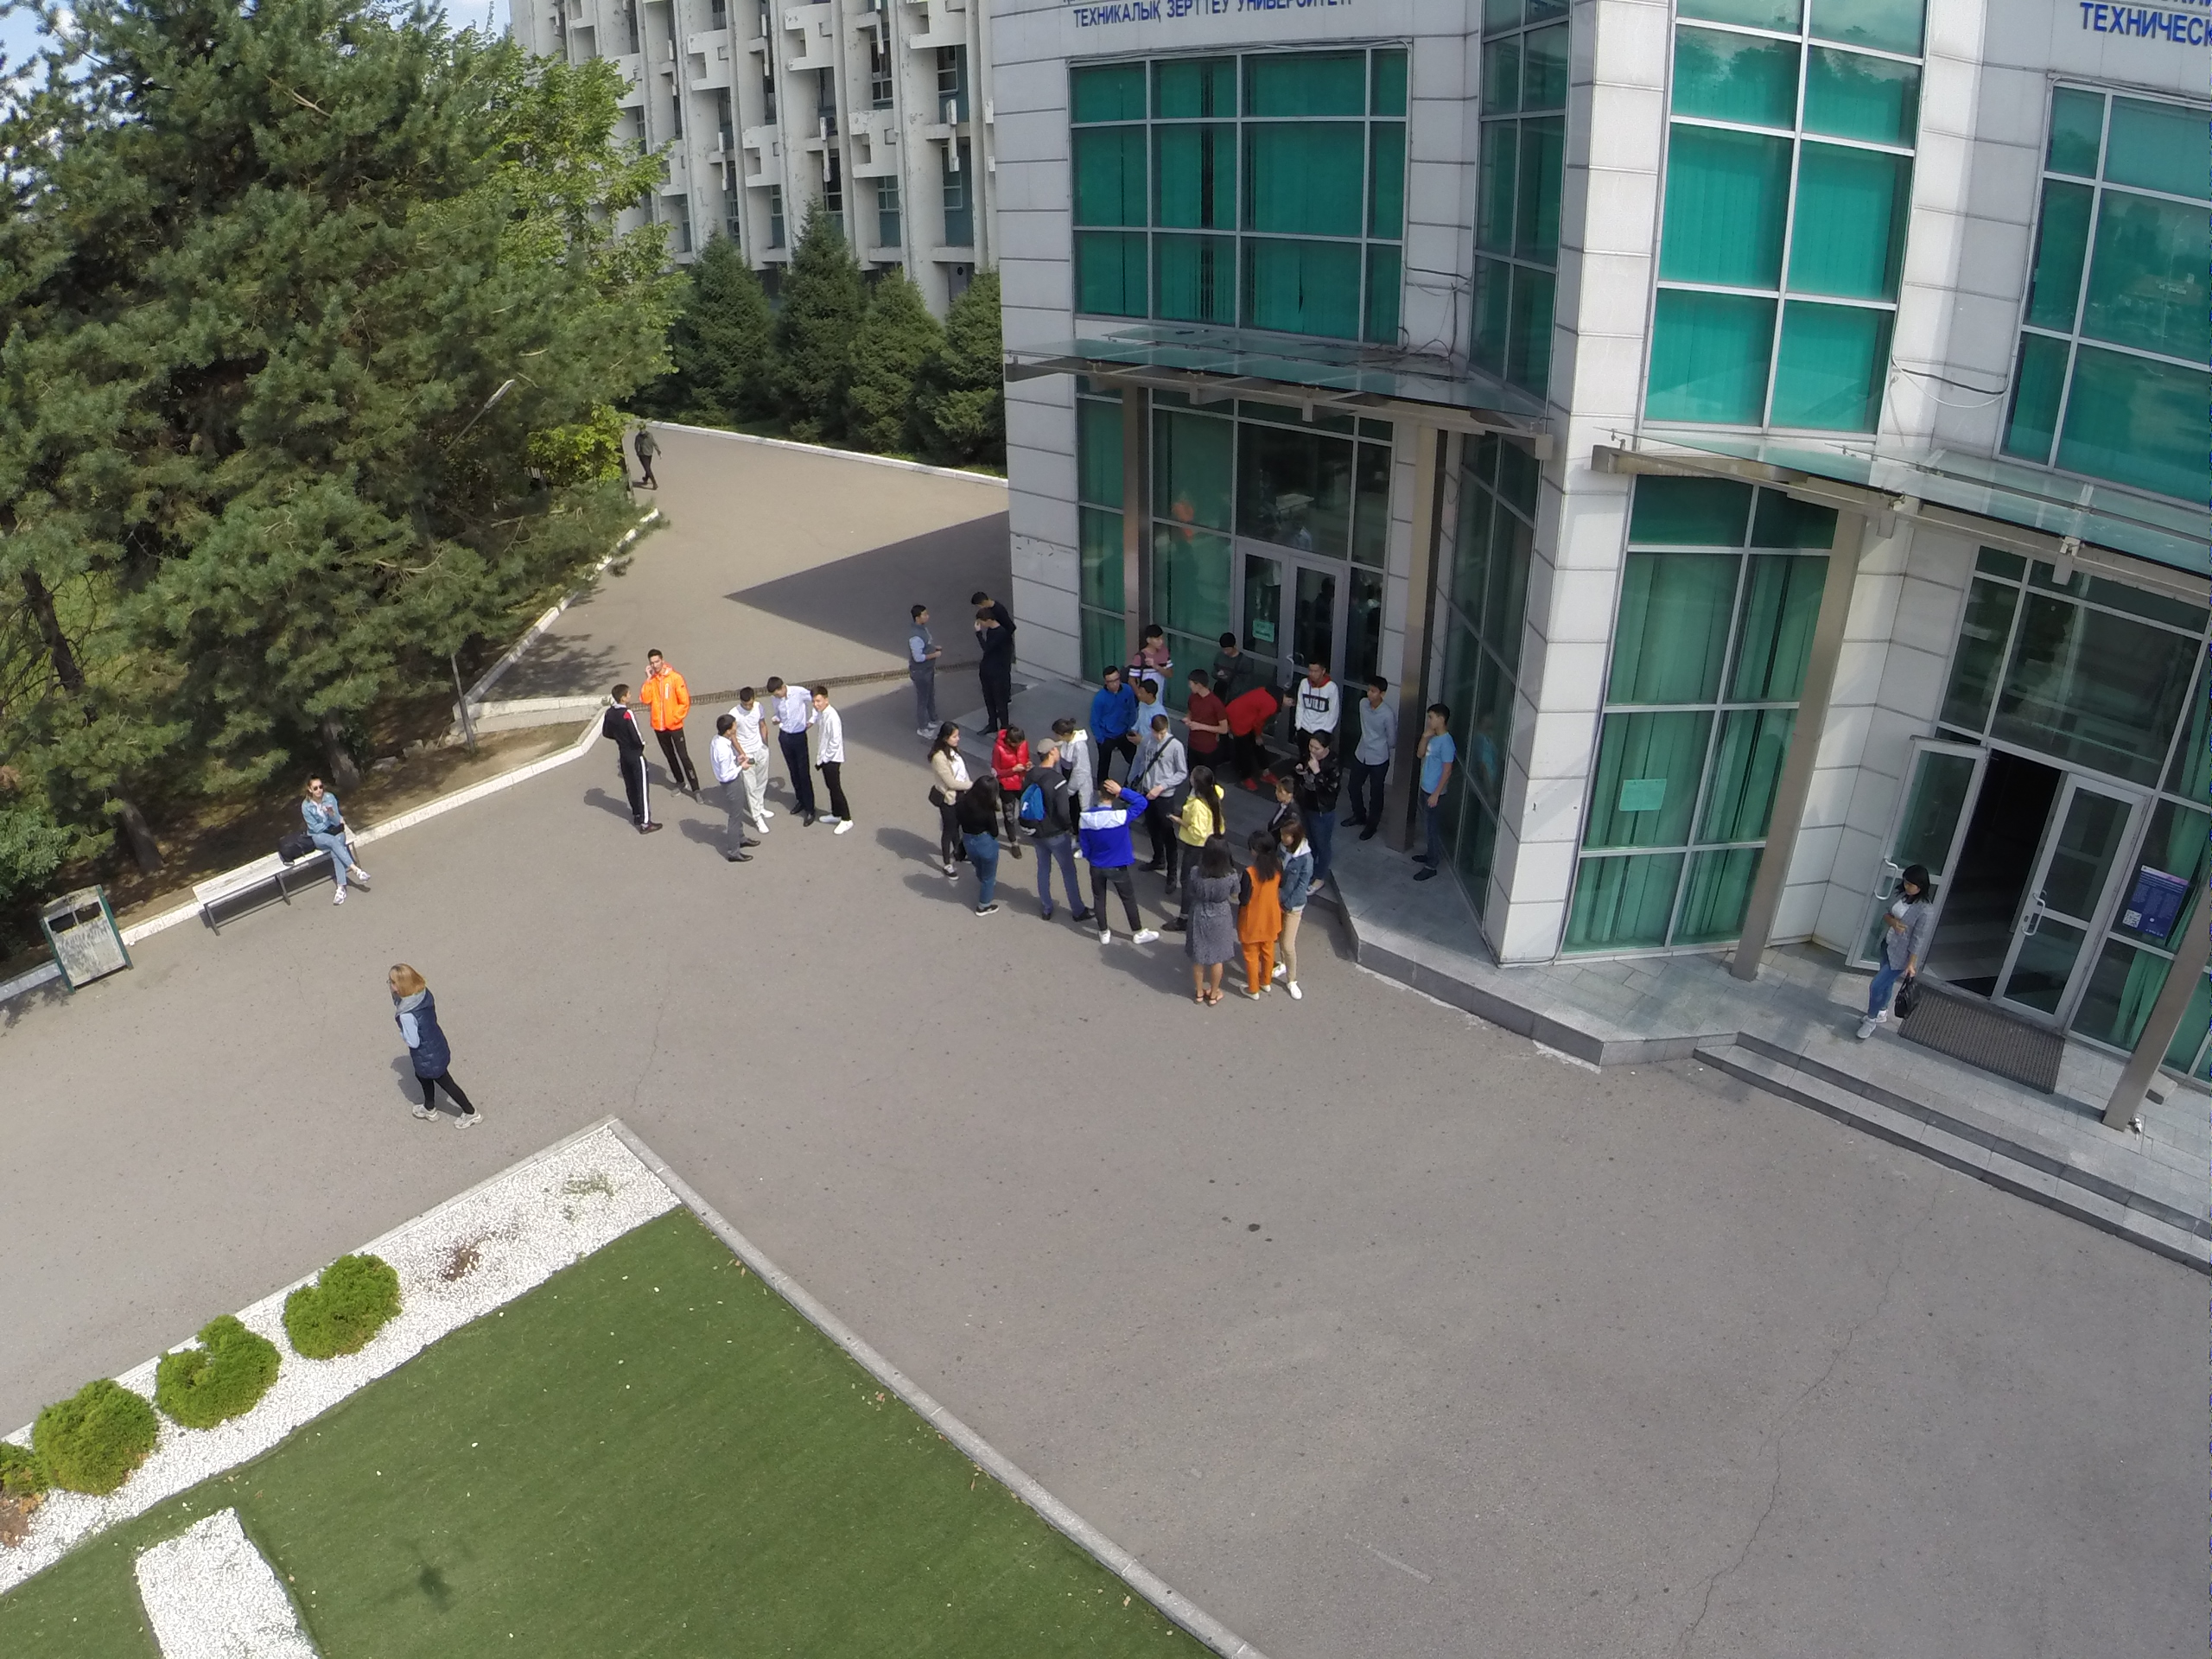person: (1842, 855, 1948, 1047), (381, 960, 486, 1135), (1066, 775, 1165, 953), (1028, 734, 1089, 927), (1179, 830, 1238, 1018), (297, 767, 375, 906), (1264, 823, 1319, 1011), (1405, 699, 1458, 895), (599, 682, 666, 836), (644, 646, 707, 804), (1138, 713, 1189, 897), (1344, 674, 1396, 844), (766, 666, 817, 835), (809, 685, 858, 846), (1228, 682, 1298, 797), (710, 710, 760, 871), (732, 684, 782, 838), (963, 767, 1007, 926), (925, 715, 965, 880), (898, 600, 944, 740), (1239, 829, 1273, 1007), (1304, 739, 1340, 898), (996, 720, 1031, 866), (1176, 665, 1226, 761), (1088, 664, 1133, 772), (977, 608, 1011, 741), (1174, 766, 1224, 838), (1297, 657, 1338, 740), (1055, 709, 1088, 805), (630, 417, 668, 492), (1209, 627, 1252, 684), (1268, 776, 1306, 826), (1141, 624, 1172, 685)
